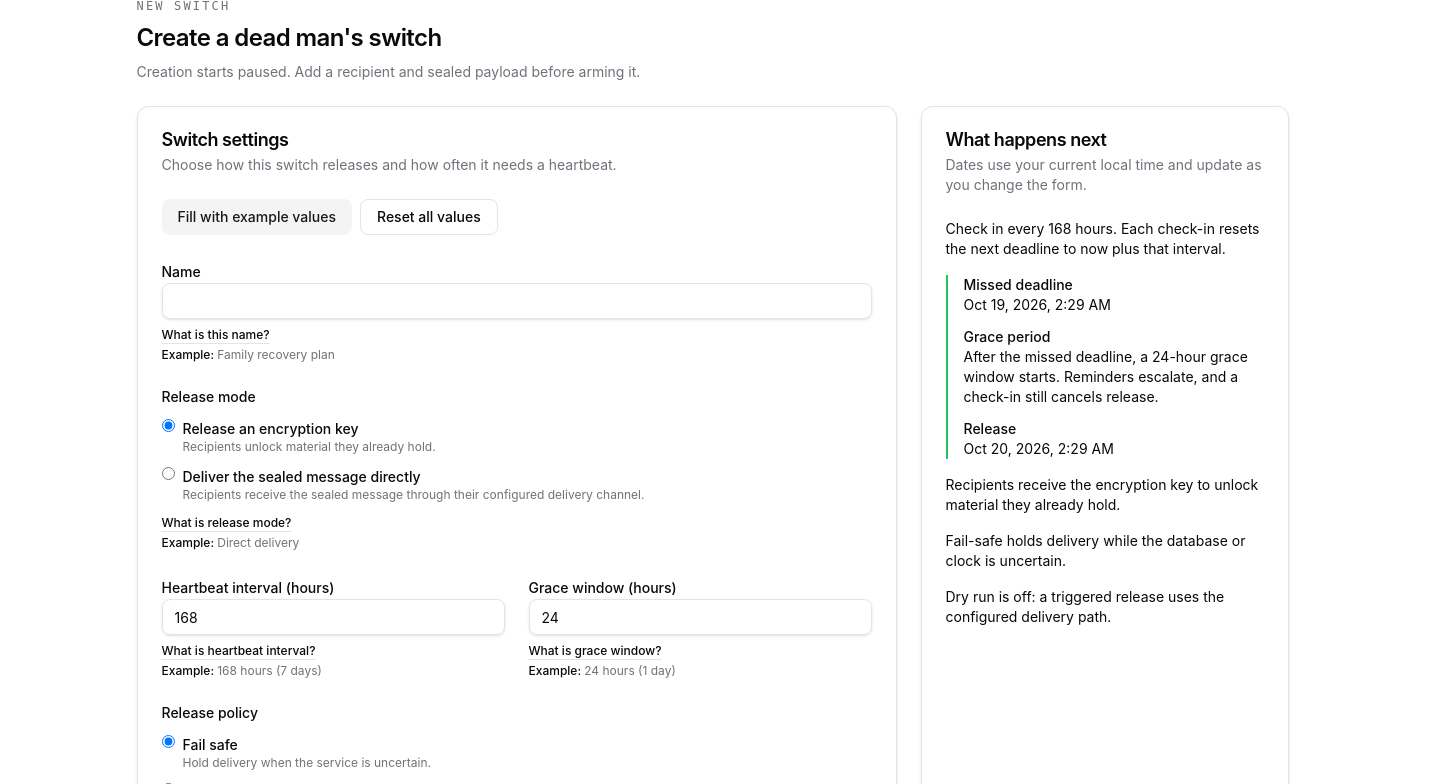
Test: NewSwitchPage › resets the guided form back to its defaults
Click the button "Fill with example values": [257, 217] box x1=162 y1=199 x2=352 y2=235
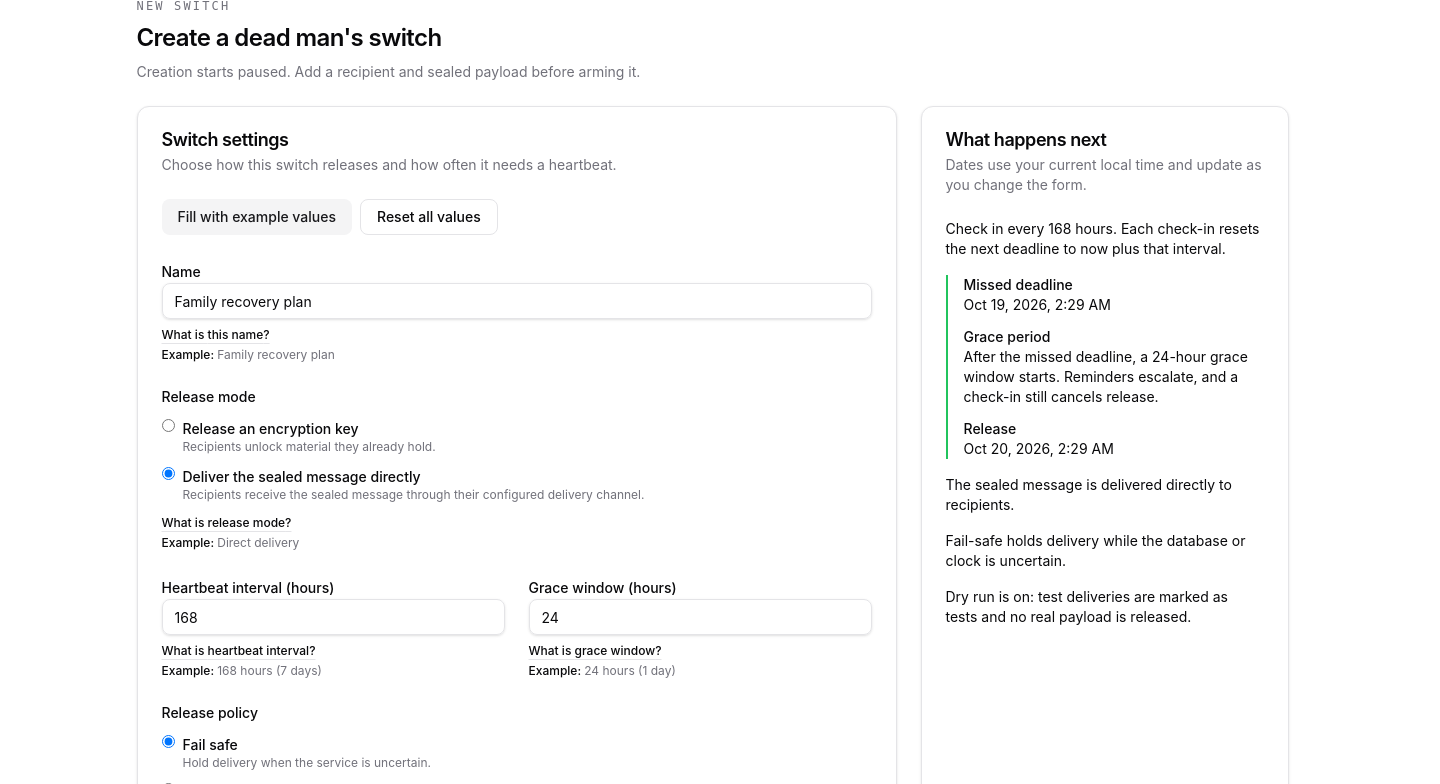
Expected: the field labelled "Name" holds "Family recovery plan", x1=162 y1=283 x2=872 y2=319
Click the button "Reset all values": [429, 217] box x1=360 y1=199 x2=498 y2=235
(page scrolled)
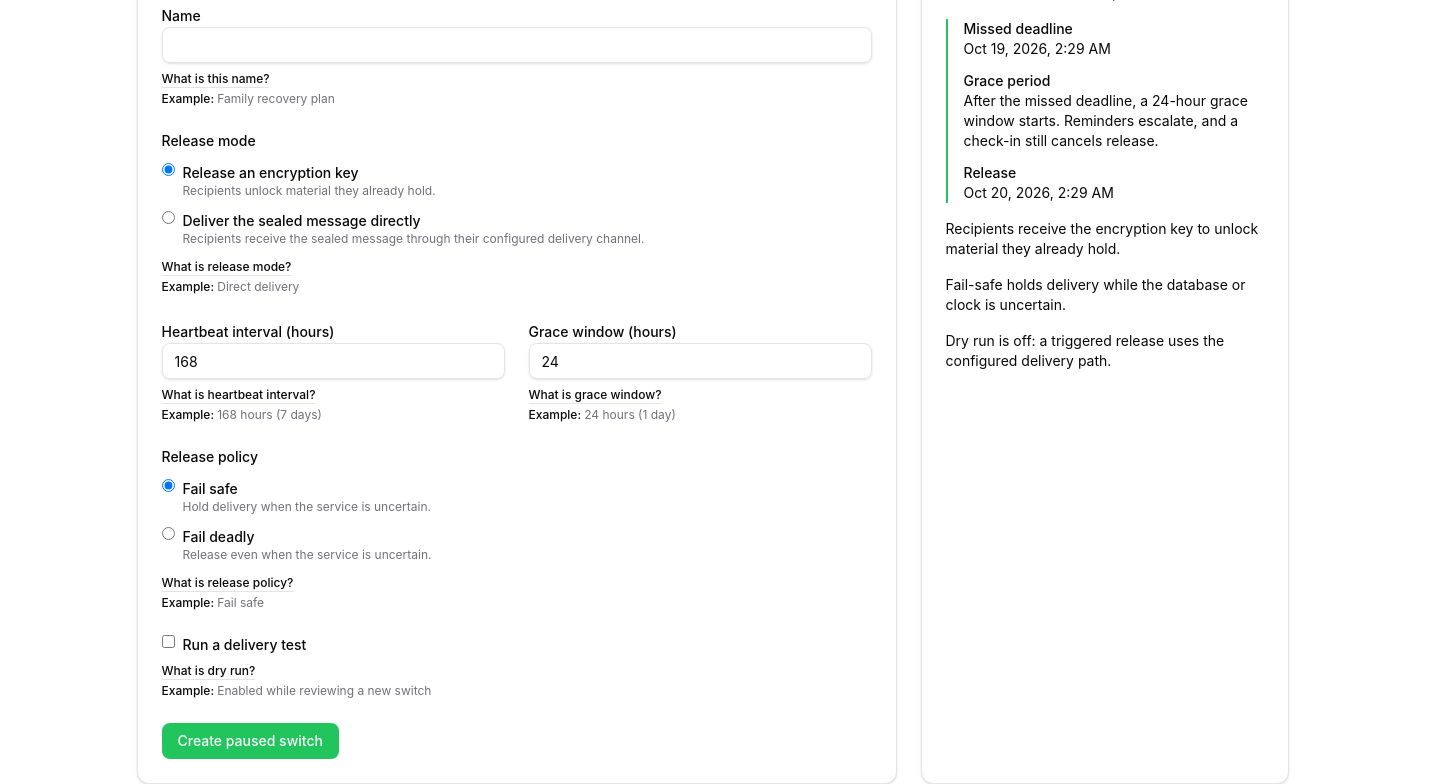
Expected: the field labelled "Name" is empty, x1=162 y1=27 x2=872 y2=63
Expected: the radio button labelled "Release an encryption key" is checked, x1=162 y1=163 x2=174 y2=176
Expected: the checkbox labelled "Run a delivery test" is not checked, x1=162 y1=635 x2=174 y2=648
